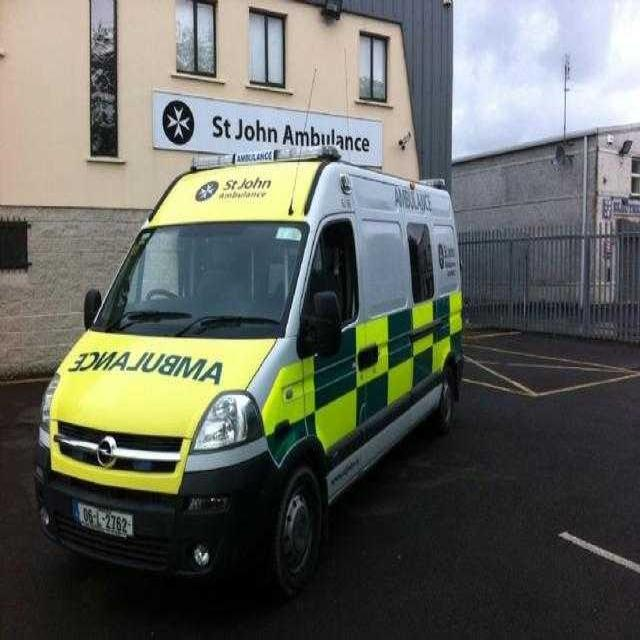ambulance: (33, 139, 478, 598)
